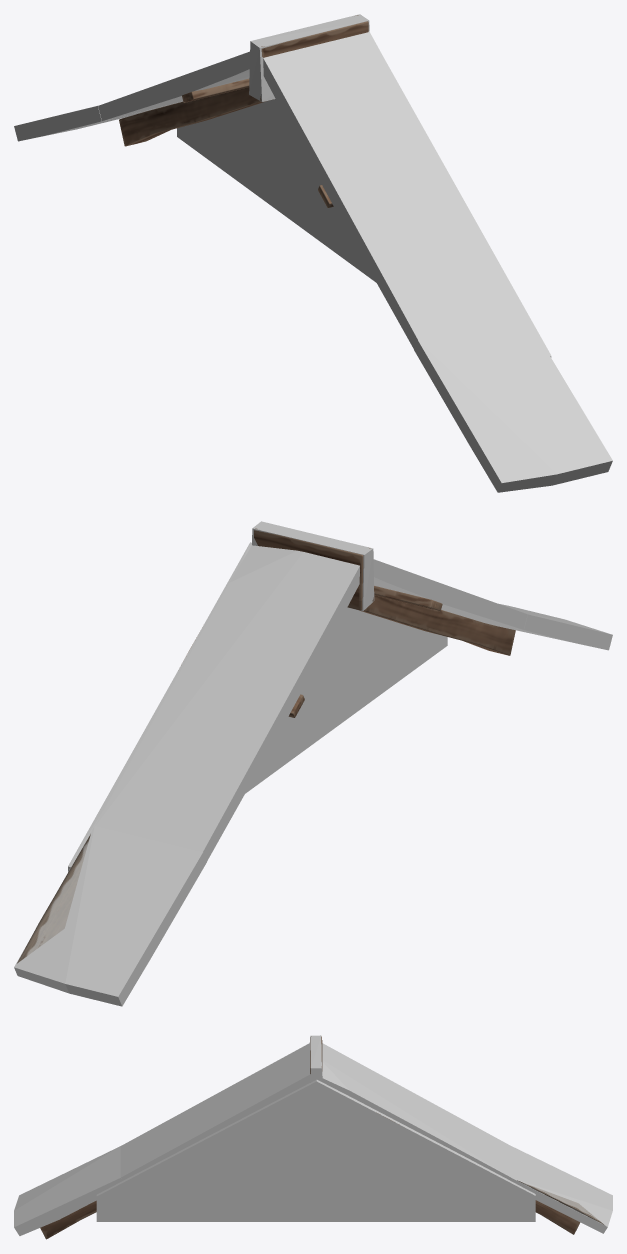
The model's file is SM_Hangar01RE_1.fbx.
3 renders of one model, top to bottom at view 1: azimuth 30°, elevation 25°; view 2: azimuth 150°, elevation 25°; view 3: azimuth 270°, elevation 25°, orthographic. The views are drawn at different scales.
Parts seen in each view (by area): view 1: SM_Hangar01RE_1_ConvexHulls, SM_Hangar01RE_1; view 2: SM_Hangar01RE_1_ConvexHulls, SM_Hangar01RE_1; view 3: SM_Hangar01RE_1_ConvexHulls, SM_Hangar01RE_1.
Boxes of the visible parts, x1,y1,x2,y2 form: SM_Hangar01RE_1_ConvexHulls: [14, 14, 612, 492]; SM_Hangar01RE_1: [119, 15, 368, 207]; SM_Hangar01RE_1_ConvexHulls: [14, 521, 612, 1006]; SM_Hangar01RE_1: [17, 528, 515, 963]; SM_Hangar01RE_1_ConvexHulls: [14, 1035, 612, 1235]; SM_Hangar01RE_1: [40, 1036, 604, 1239].
Size of the model in its own units: 84.26 by 617 by 197.
Materials: 6 (5 with a texture image).
